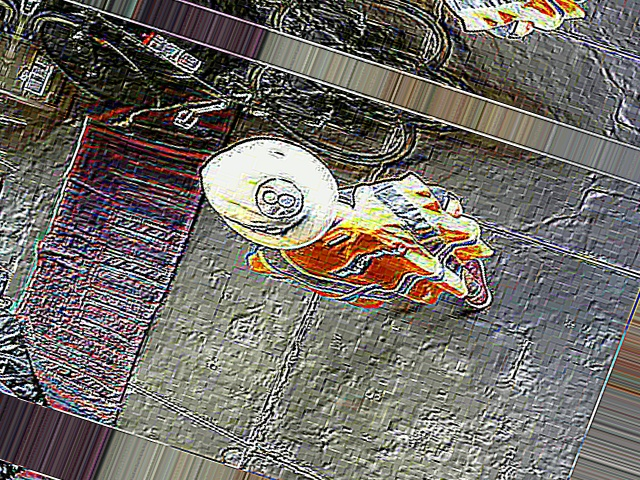eight: (249, 174, 307, 225)
